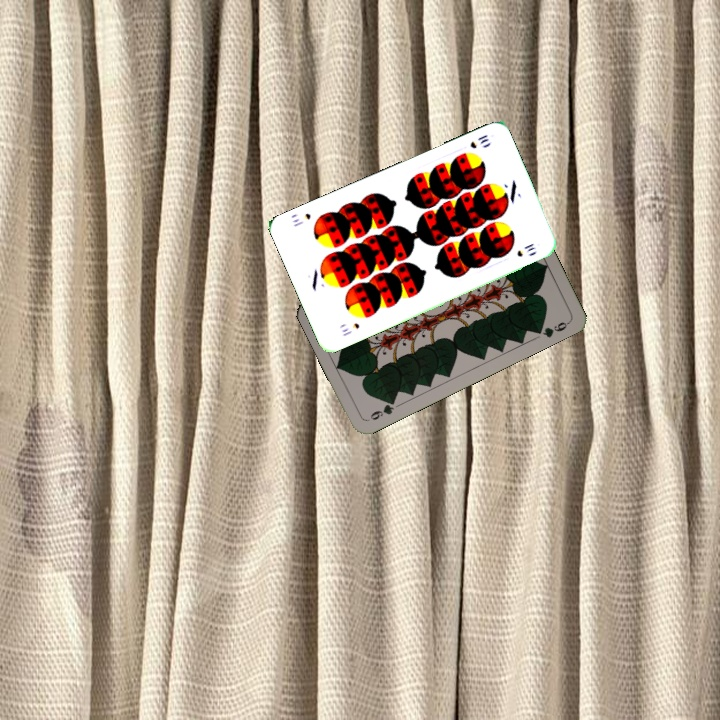G9: (364, 395, 398, 423)
S10: (466, 130, 491, 151), (338, 319, 362, 339)
